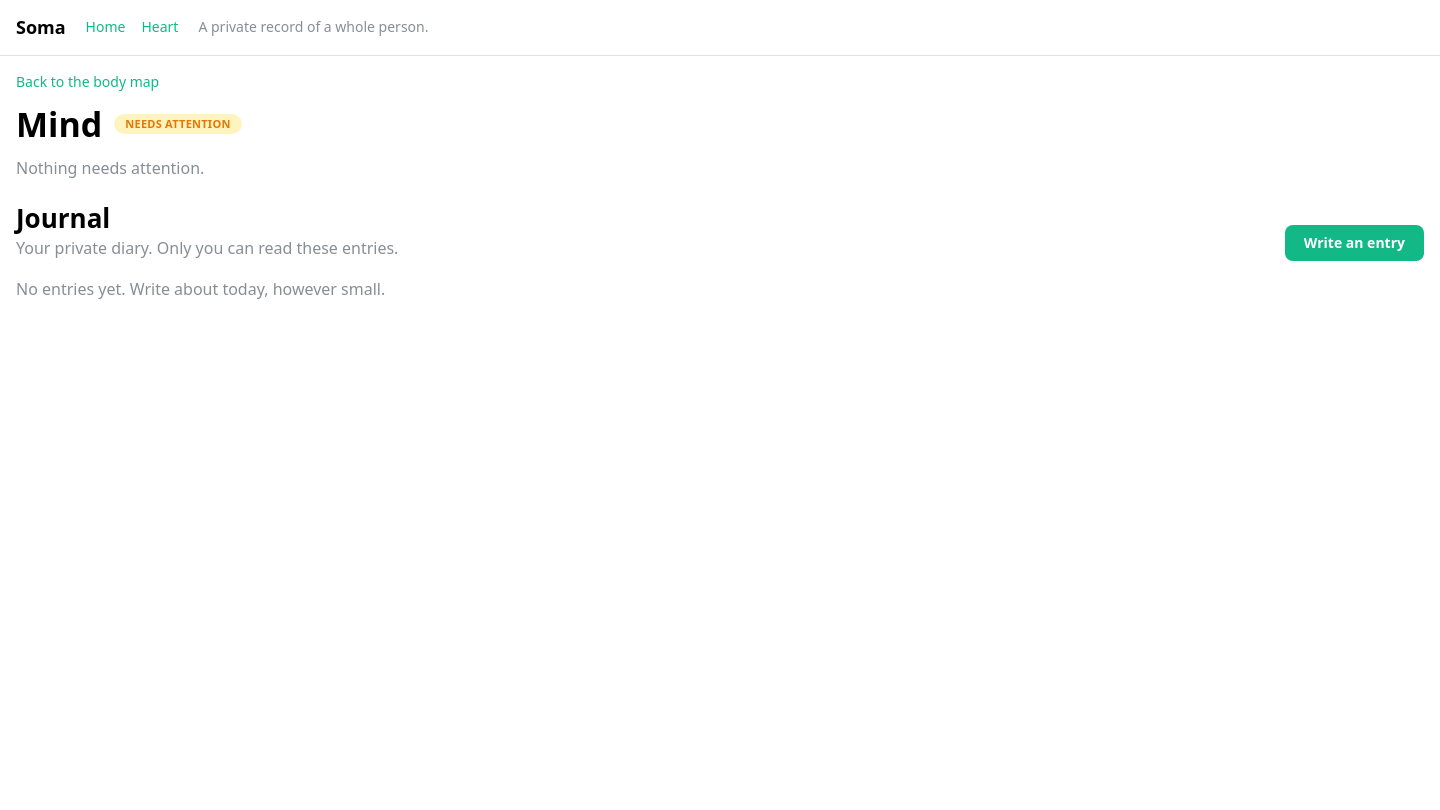
Test: Journal page › refuses an empty entry
The image size is (1440, 810).
Expected: the text "No entries yet. Write about today, however small." is shown, 16,278 -> 385,300
Click the button "Write an entry": (1354,243) 1285,225 -> 1424,261
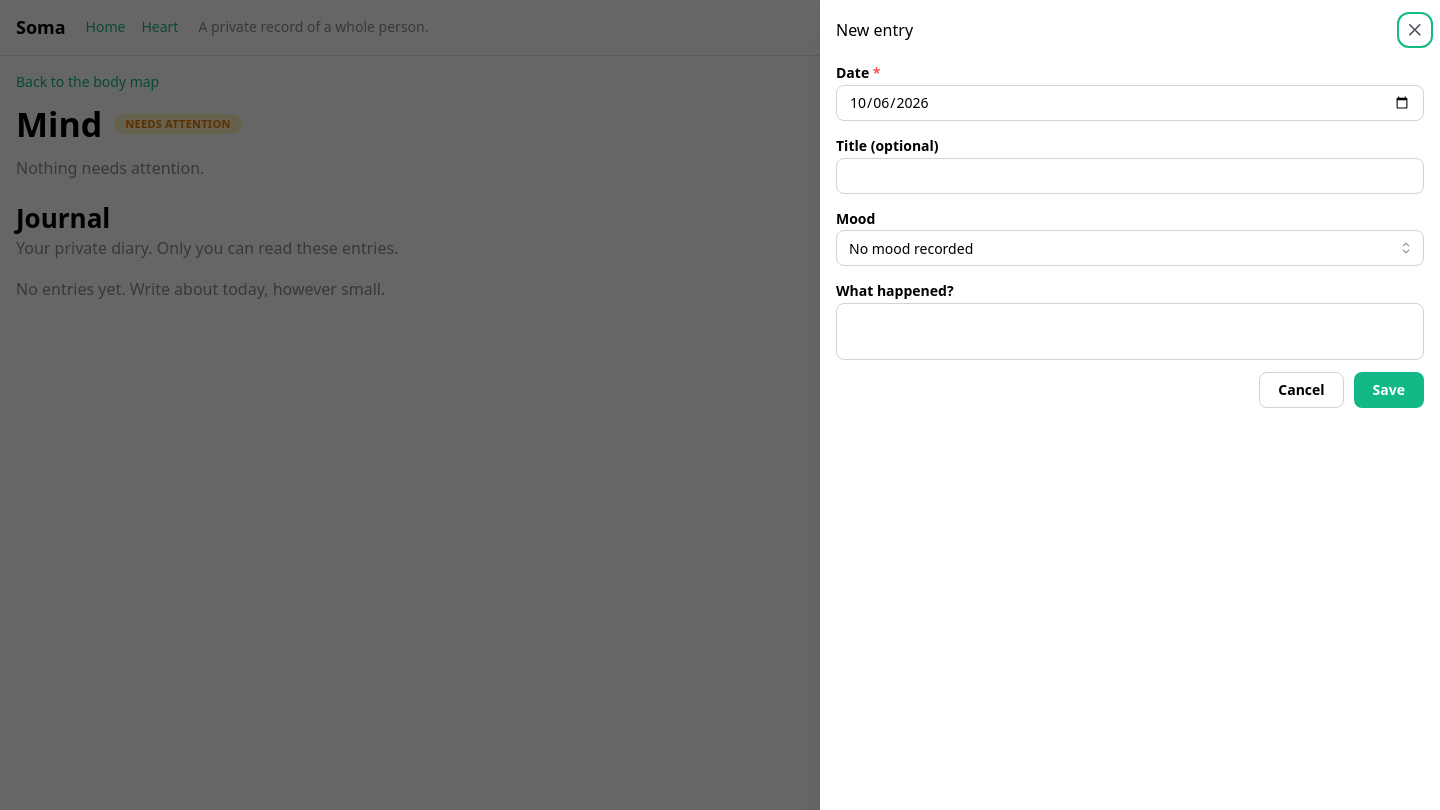
Click the button "Save": (1389,390) 1354,372 -> 1424,408
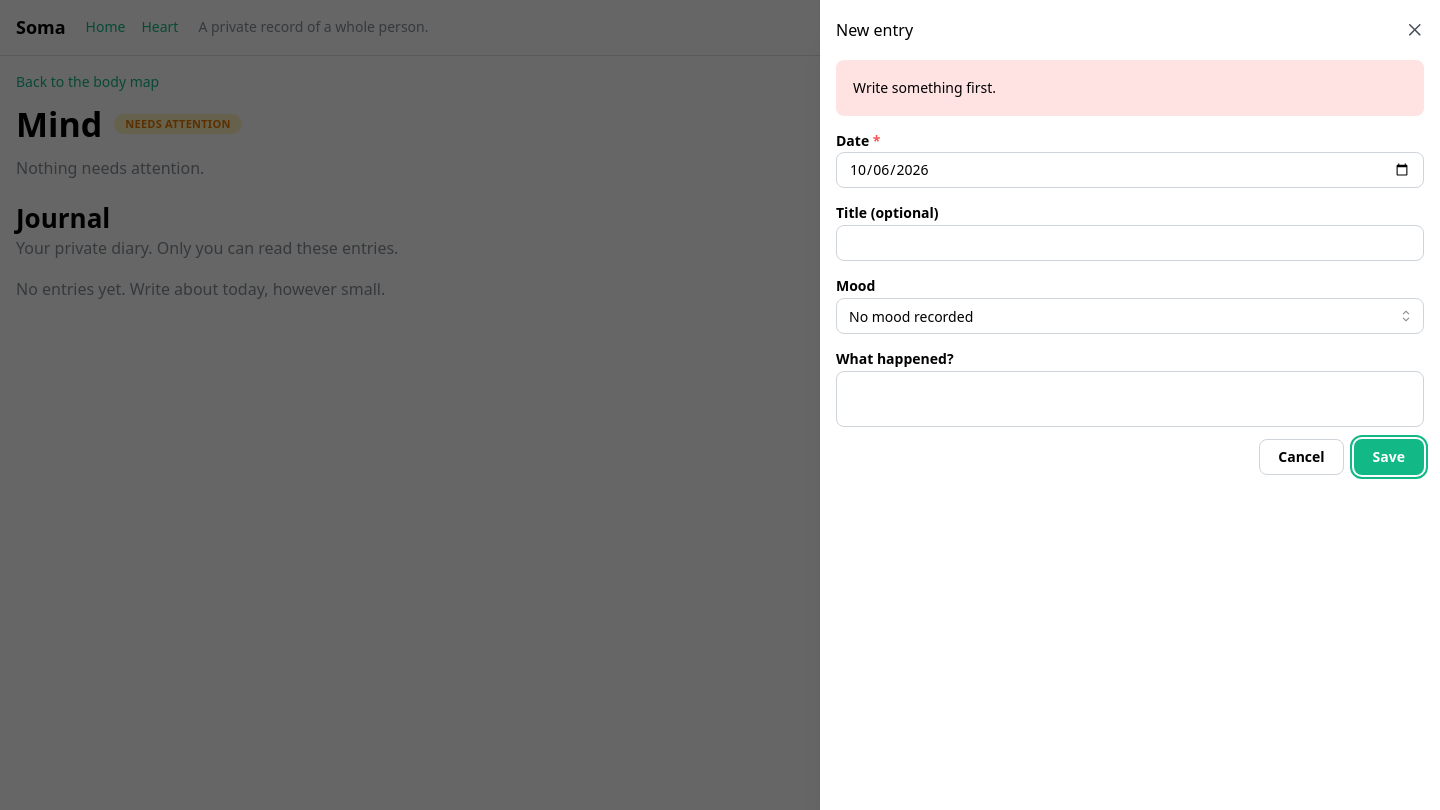
Result: the message reads "Write something first." at 853,78 -> 996,97
